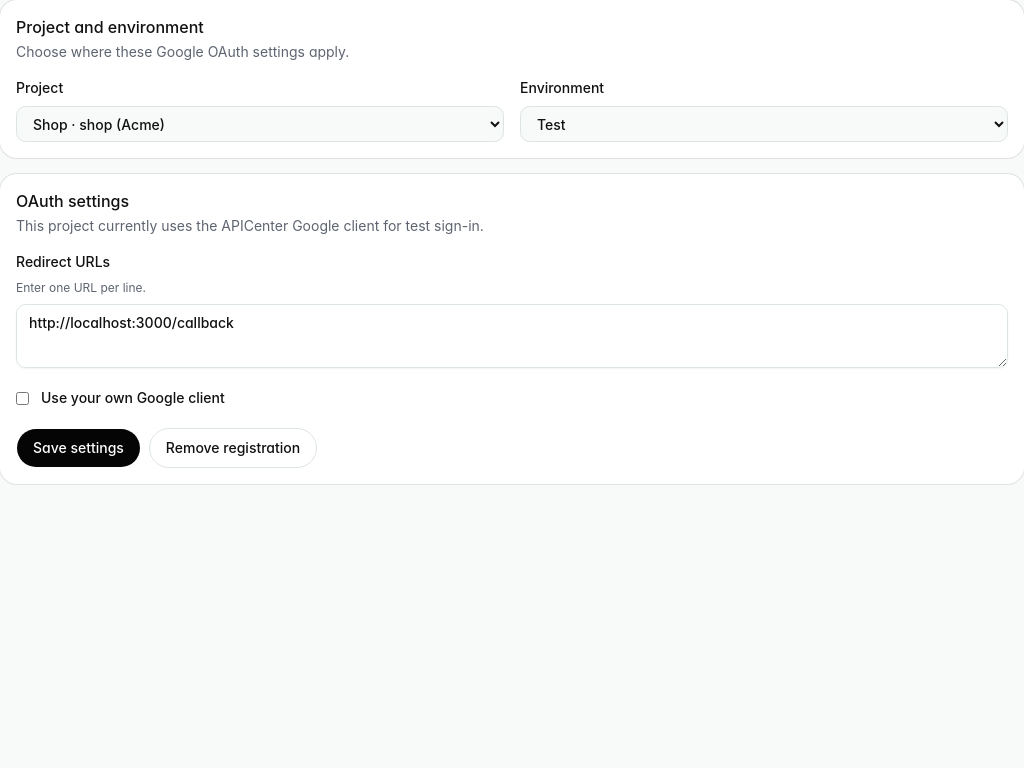
it: GoogleSignInSettingsClient › loads a project, saves a write-only client secret, and shows its last changed time
Expected: the text "currently uses the APICenter Google client" is shown, [16, 217, 484, 234]
Click the checkbox labelled "Use your own Google client".
click(22, 398)  # box [16, 392, 29, 404]
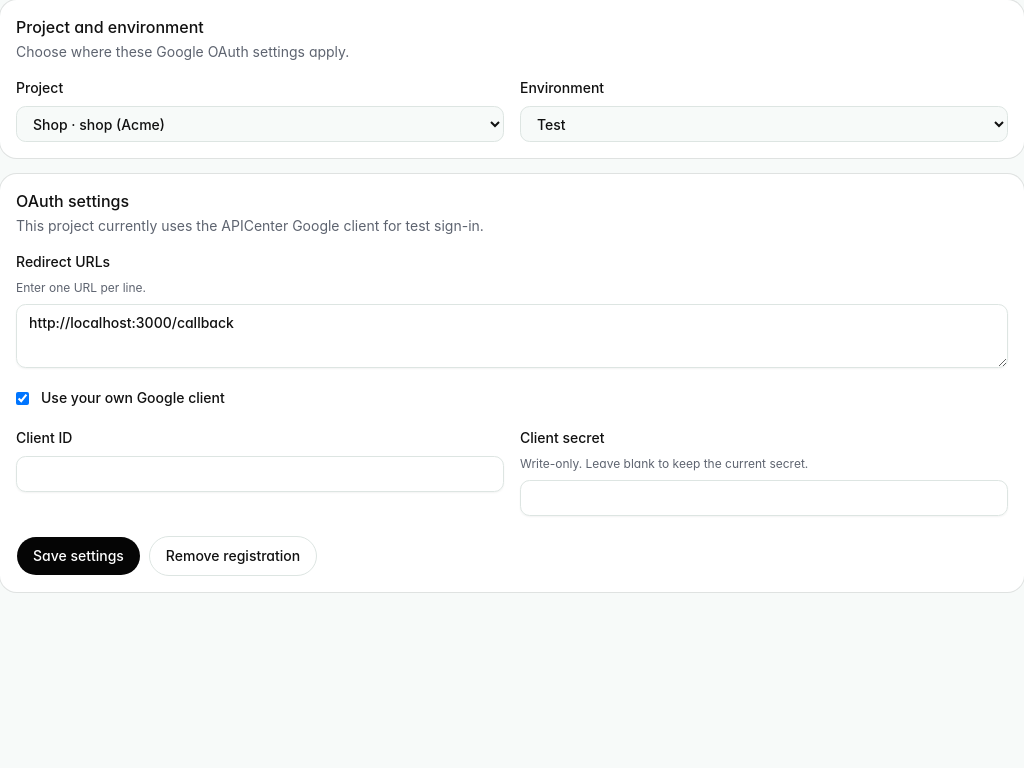
Type "client-id" into the field labelled "Client ID".
click(260, 474); type("client-id")  # box [16, 456, 504, 492]
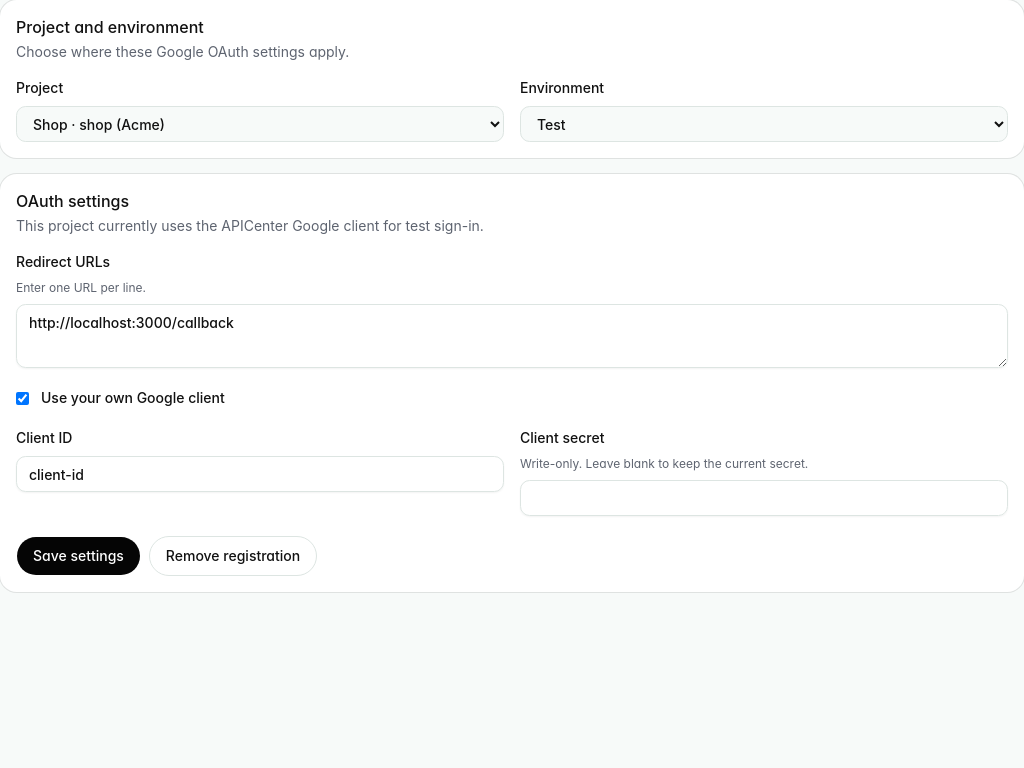
Type "super-secret" into the password field labelled "Client secret".
click(764, 498); type("super-secret")  # box [520, 480, 1008, 516]
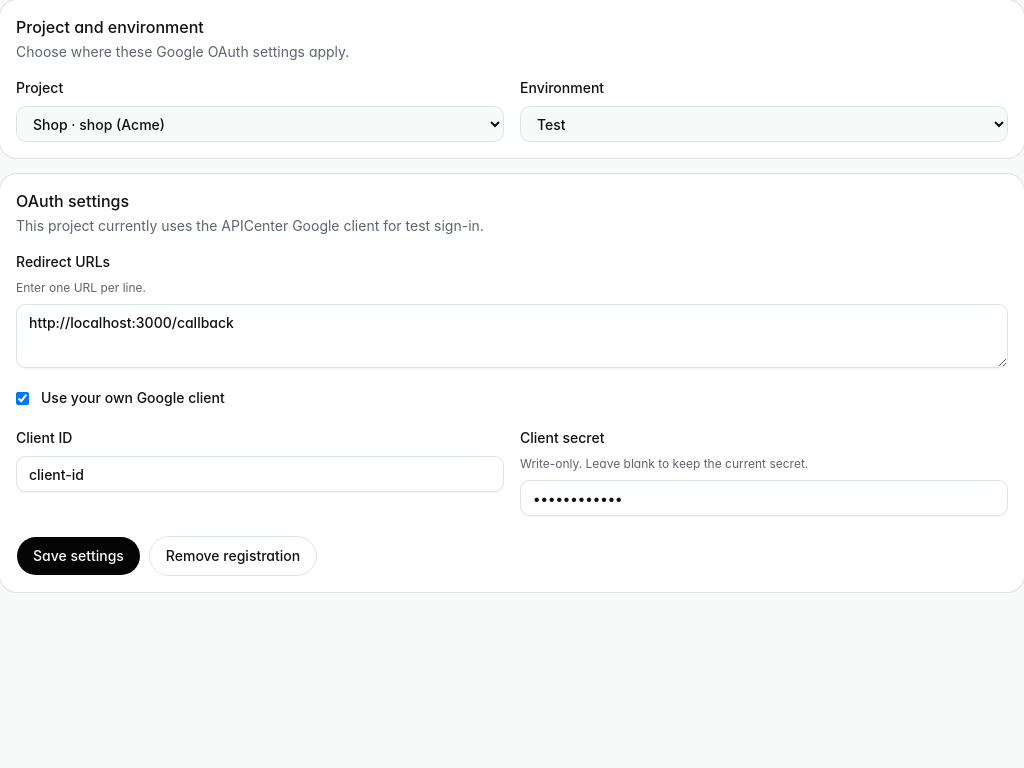
Click the button "Save settings".
click(78, 556)  # box [16, 536, 141, 576]
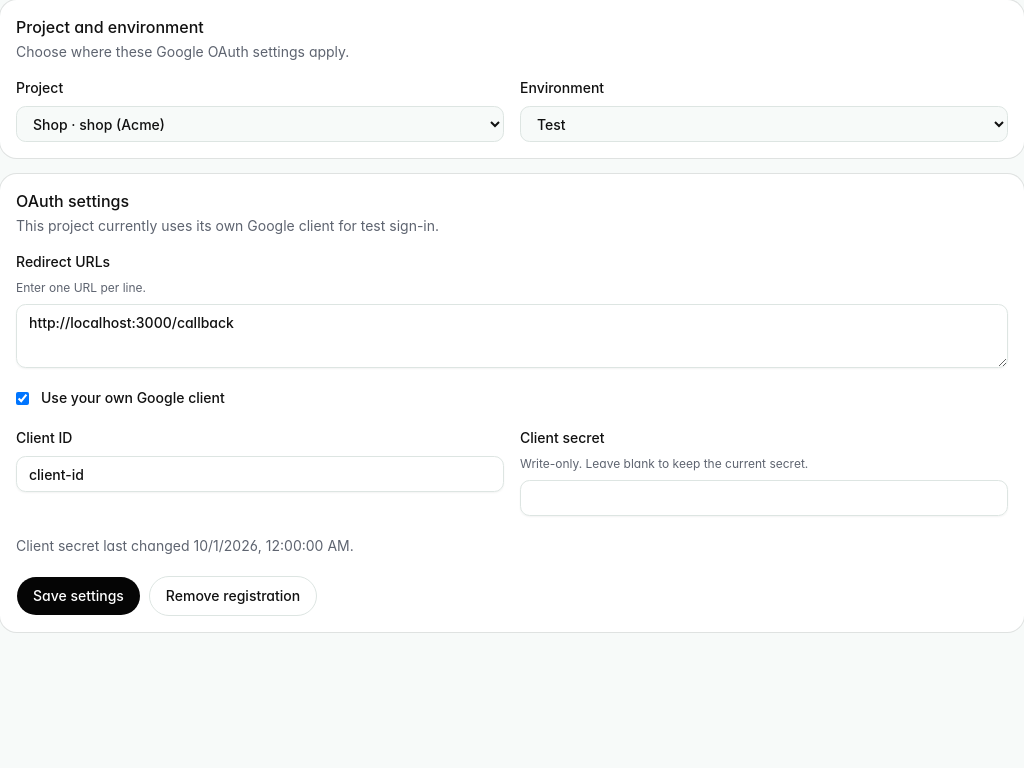
Expected: the text "currently uses its own Google client" is shown, [16, 217, 439, 234]
Expected: the text "Client secret last changed 10/1/2026, 12:00:00 AM." is shown, [16, 537, 354, 554]
Expected: the password field labelled "Client secret" is empty, [520, 480, 1008, 516]
